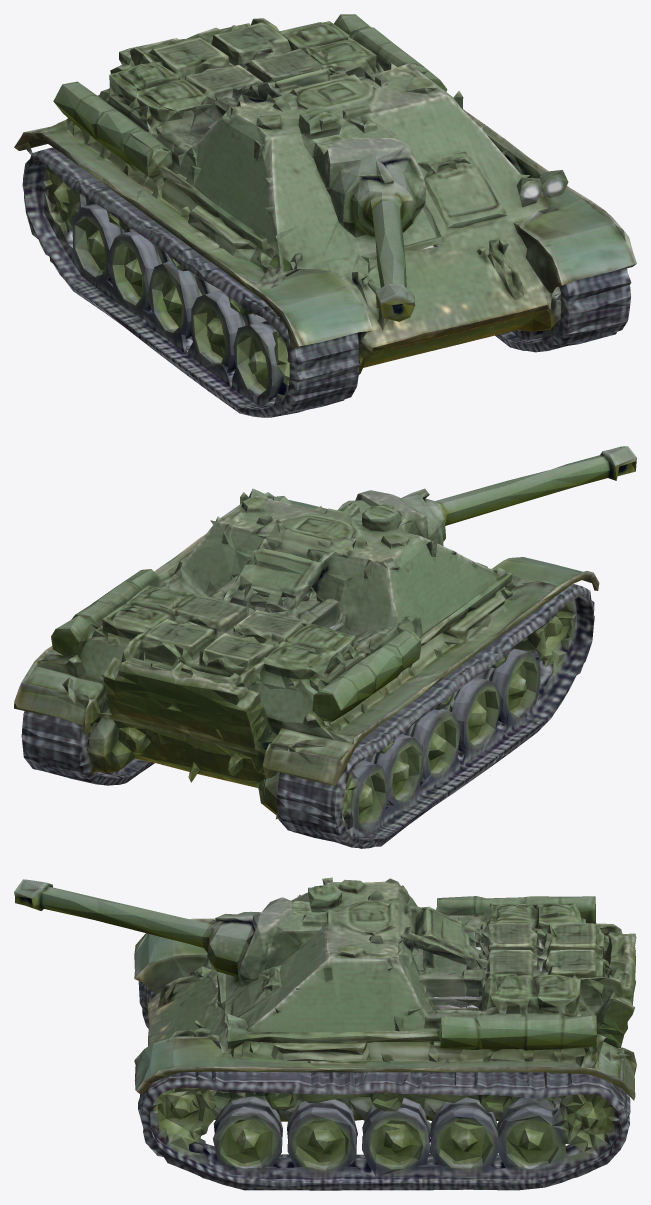
The model's file is su100_hull.obj.
The picture shows the model from 3 angles, top to bottom: view 1: azimuth 30°, elevation 25°; view 2: azimuth 150°, elevation 25°; view 3: azimuth 270°, elevation 25°; orthographic projection. The views are drawn at different scales.
Parts seen in each view (by area): view 1: su100_hull; view 2: su100_hull; view 3: su100_hull.
Part boxes in pixels (left/top/right/bottom): su100_hull: left=14, top=14, right=636, bottom=417; su100_hull: left=14, top=446, right=636, bottom=848; su100_hull: left=14, top=877, right=636, bottom=1190.
Size of the model in its own units: 5.34 by 3.57 by 9.45.
1 material, 1 textured.
